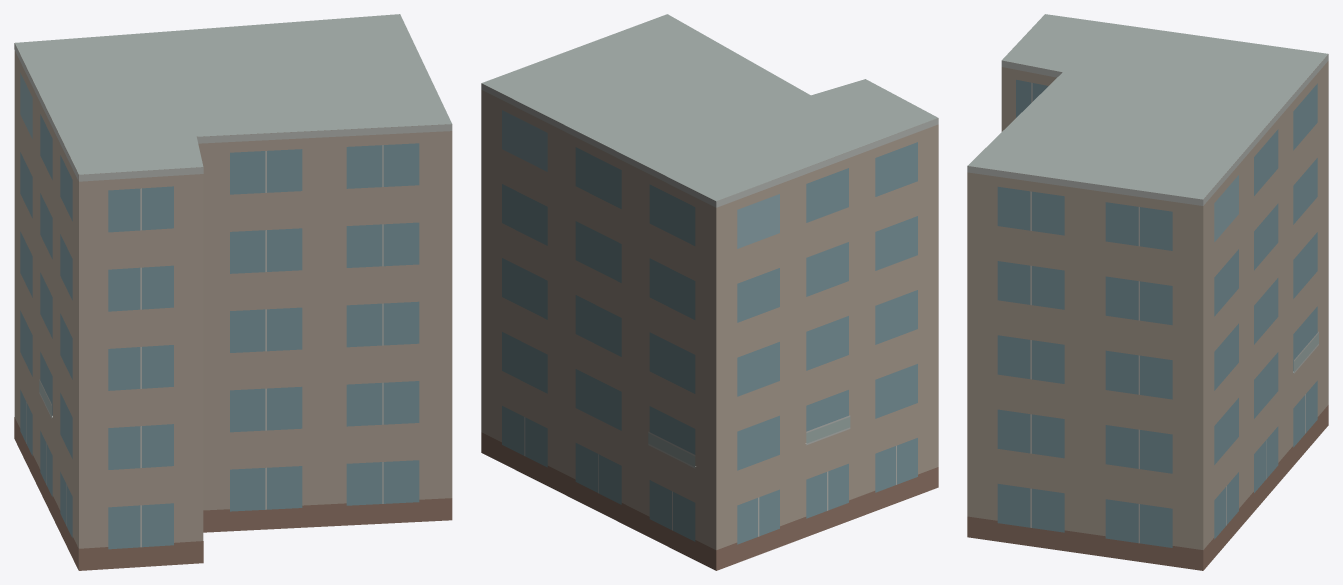
File: survey-upis-32887065.glb
3 renders of one model, left to right at view 1: azimuth 30°, elevation 25°; view 2: azimuth 150°, elevation 25°; view 3: azimuth 270°, elevation 25°, orthographic. The views are drawn at different scales.
Visible parts, largest first — view 1: survey-upis-32887065.tmp; view 2: survey-upis-32887065.tmp; view 3: survey-upis-32887065.tmp.
Boxes of the visible parts, bbox=[...] form: survey-upis-32887065.tmp: bbox=[14, 14, 452, 570]; survey-upis-32887065.tmp: bbox=[481, 14, 938, 570]; survey-upis-32887065.tmp: bbox=[967, 14, 1328, 570].
Size of the model in its own units: 14.91 by 13.9 by 12.27.
